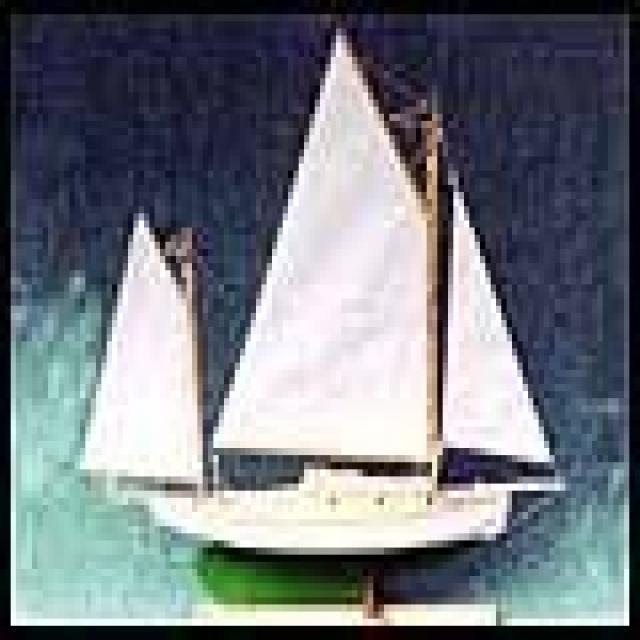Ship: (83, 35, 554, 607)
